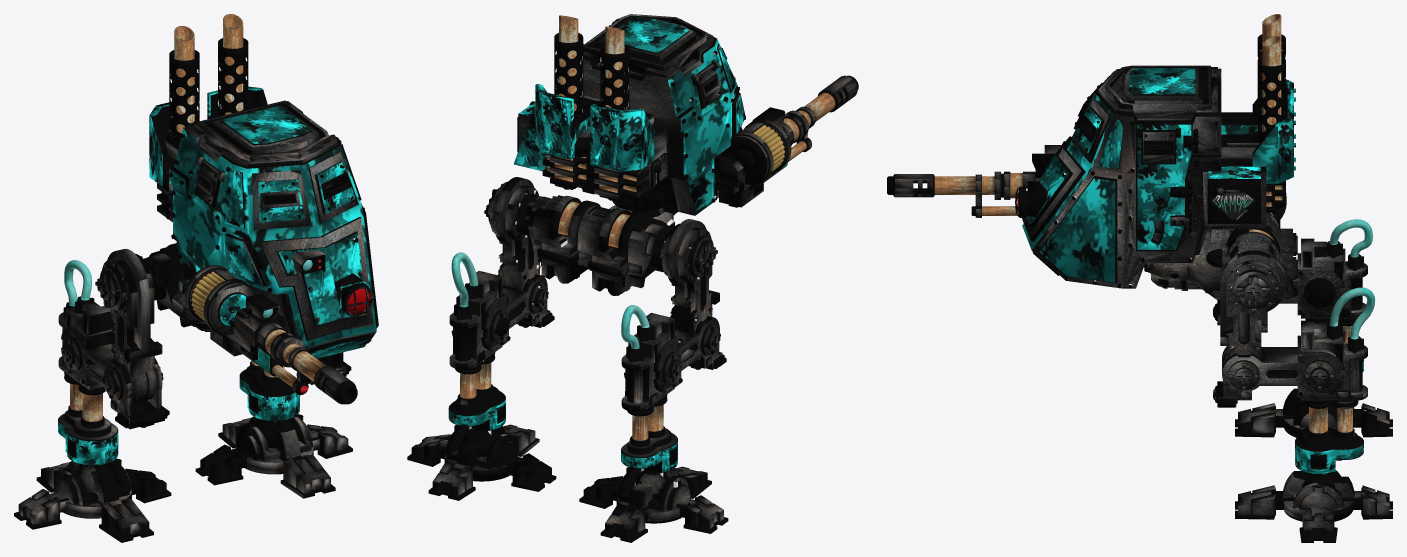
File: sentinel steel legion.gltf
3 views of the same model, side by side, from view 1: azimuth 30°, elevation 25°; view 2: azimuth 150°, elevation 25°; view 3: azimuth 270°, elevation 25° (orthographic). The views are drawn at different scales.
Parts seen in each view (by area): view 1: node-0; view 2: node-0; view 3: node-0.
Boxes of the visible parts, bbox=[...] form: node-0: bbox=[14, 14, 378, 542]; node-0: bbox=[407, 14, 858, 542]; node-0: bbox=[887, 14, 1392, 542].
Bounding box in the file's own units: 30.04 × 42.88 × 44.29.
11 materials, 9 textured.
